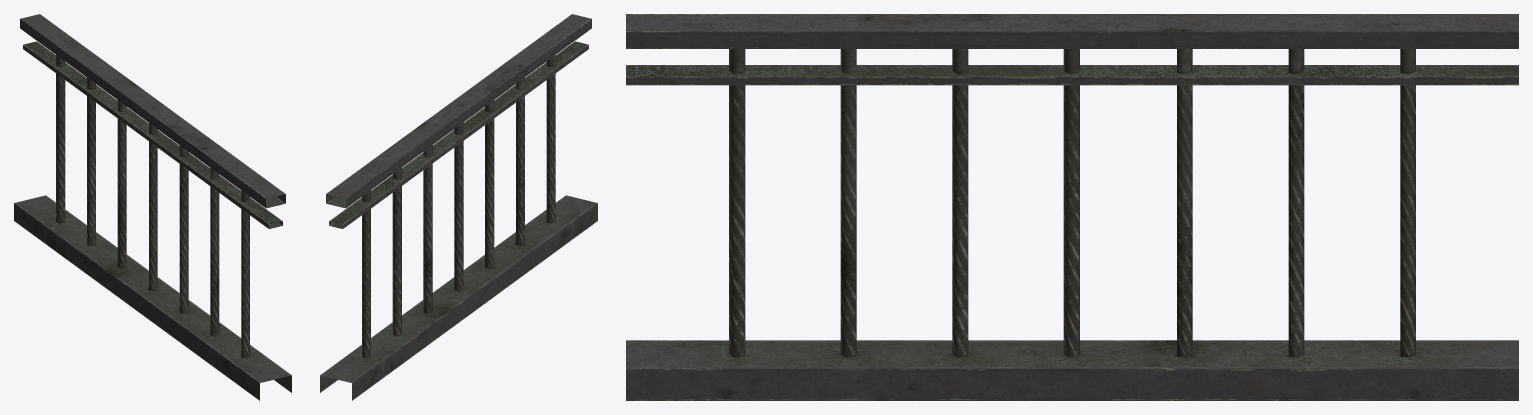
Rendered from SM_fence_2m_01.fbx.
3 views of the same model, side by side, from view 1: azimuth 30°, elevation 25°; view 2: azimuth 150°, elevation 25°; view 3: azimuth 270°, elevation 25° (orthographic). The views are drawn at different scales.
Visible parts, largest first — view 1: SM_fence_2m_01_LOD0; view 2: SM_fence_2m_01_LOD0; view 3: SM_fence_2m_01_LOD0.
Boxes of the visible parts, left/top/right/bottom form: SM_fence_2m_01_LOD0: left=14, top=14, right=291, bottom=400; SM_fence_2m_01_LOD0: left=320, top=14, right=597, bottom=400; SM_fence_2m_01_LOD0: left=626, top=14, right=1518, bottom=400.
Size of the model in its own units: 15 by 200 by 90.
1 material, 1 textured.
